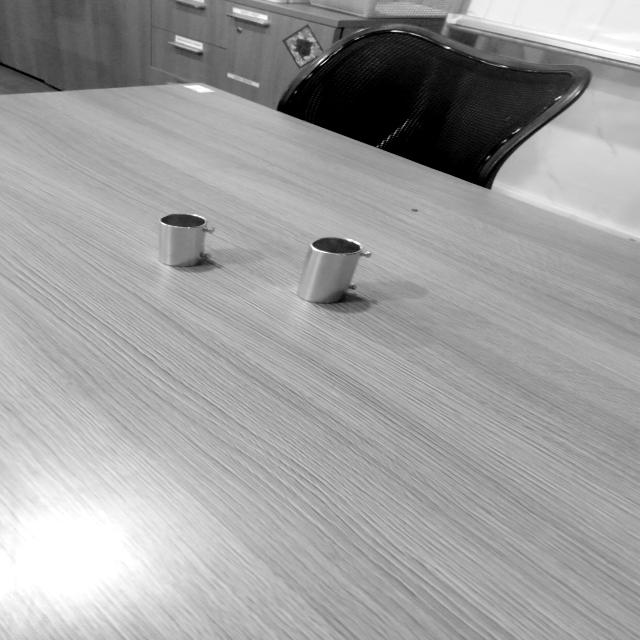Co_Lon: (295, 230, 372, 314)
Co_Nho: (157, 212, 213, 269)
